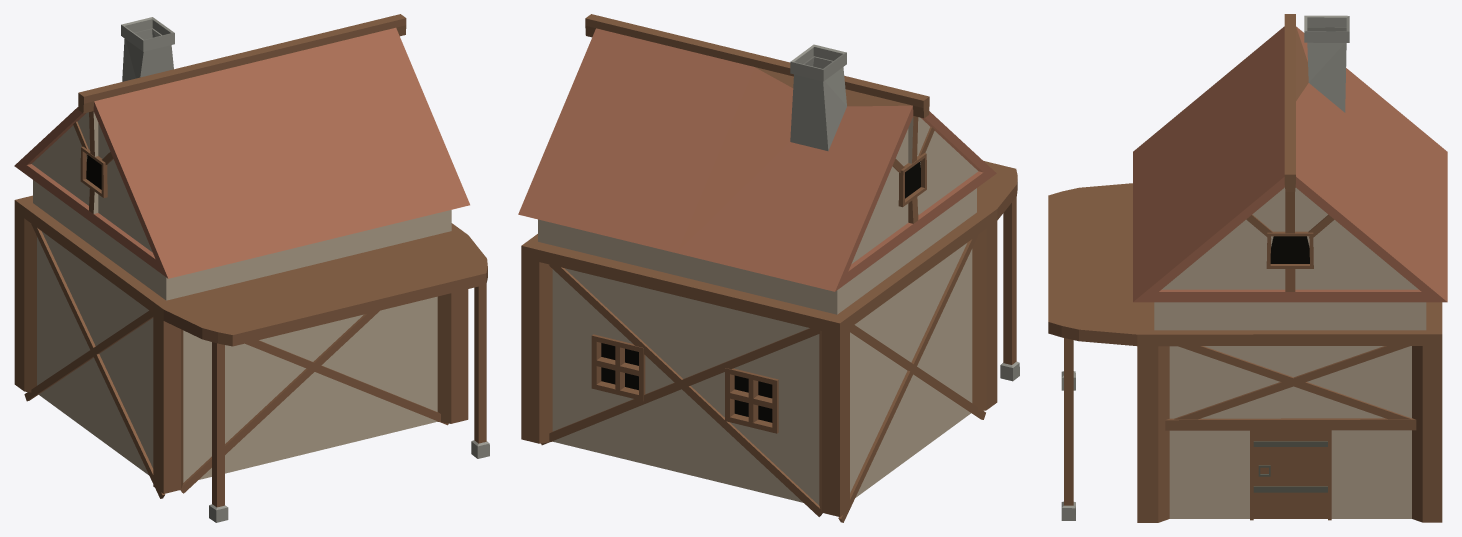
File: house_big.dae
3 renders of one model, left to right at view 1: azimuth 30°, elevation 25°; view 2: azimuth 150°, elevation 25°; view 3: azimuth 270°, elevation 25°, orthographic. The views are drawn at different scales.
Visible parts, largest first — view 1: house; view 2: house; view 3: house.
Part boxes in pixels (left/top/right/bottom): house: left=14, top=14, right=489, bottom=522; house: left=518, top=14, right=1019, bottom=522; house: left=1048, top=14, right=1447, bottom=522.
Bounding box in the file's own units: 12.61 × 13.26 × 14.6.
